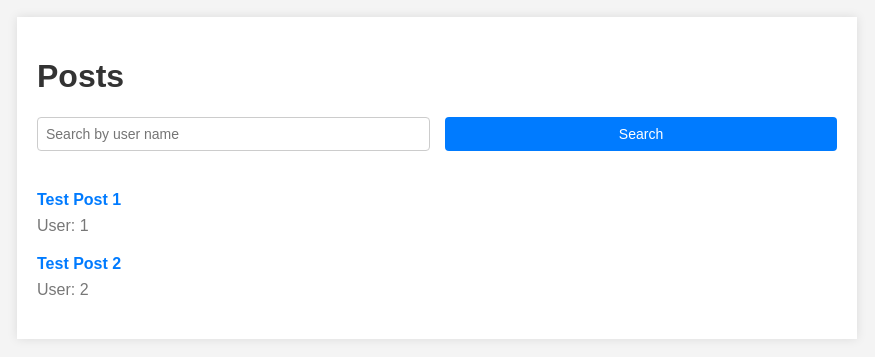
Test: PostList component › handles search correctly
The width and height of the screenshot is (875, 357).
Type "Test Post 1" into the field with placeholder "Search by user name".
click(234, 134); type("Test Post 1")  # box [37,117,430,151]
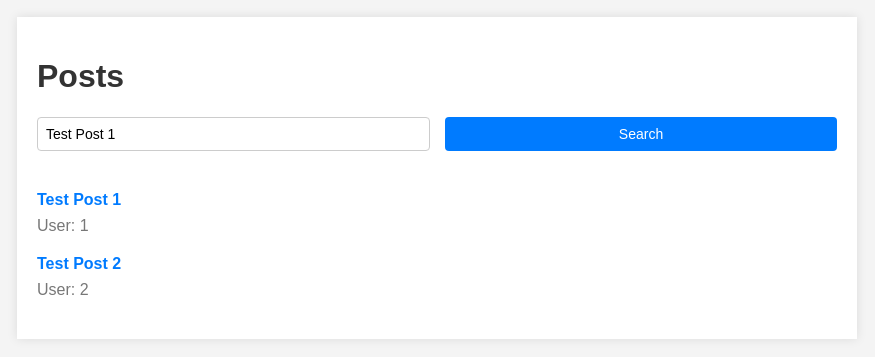
Click the button "Search".
click(641, 134)  # box [445,117,837,151]
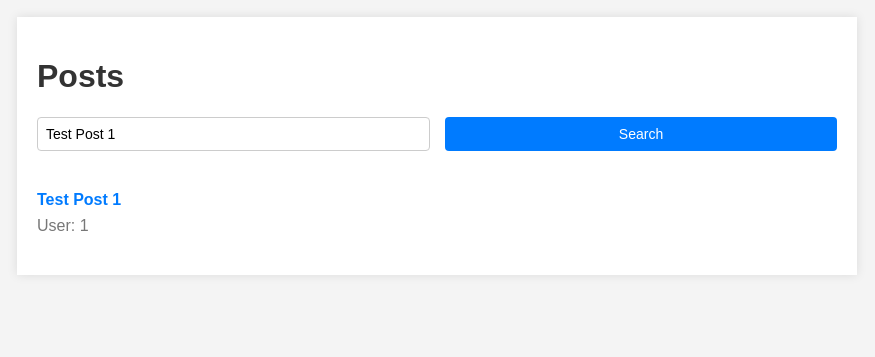
Expected: the link "Test Post 1" is shown, [37,191,121,208]
Expected: the link "Test Post 2" is gone
